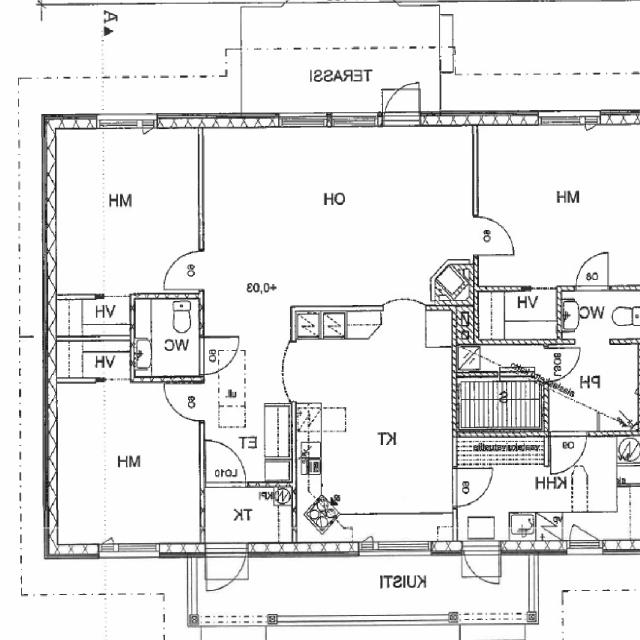door: (204, 543, 247, 602), (206, 439, 247, 488), (464, 543, 500, 595), (160, 250, 204, 290), (472, 217, 514, 256), (384, 75, 416, 125), (551, 432, 587, 476), (452, 469, 492, 507), (164, 384, 204, 421), (199, 338, 238, 375), (575, 250, 609, 292), (544, 349, 580, 383)
